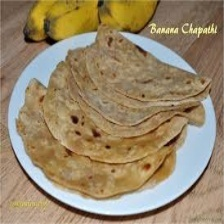roti: (16, 23, 209, 199)
